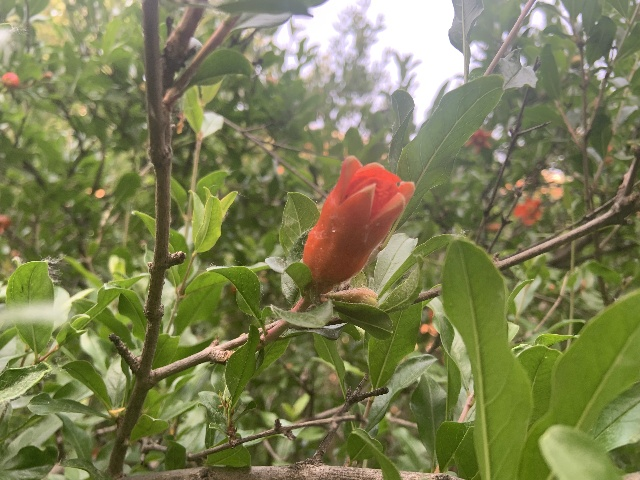bud: (1, 72, 19, 86)
flower: (302, 155, 414, 290), (464, 126, 492, 154), (513, 197, 541, 225)
